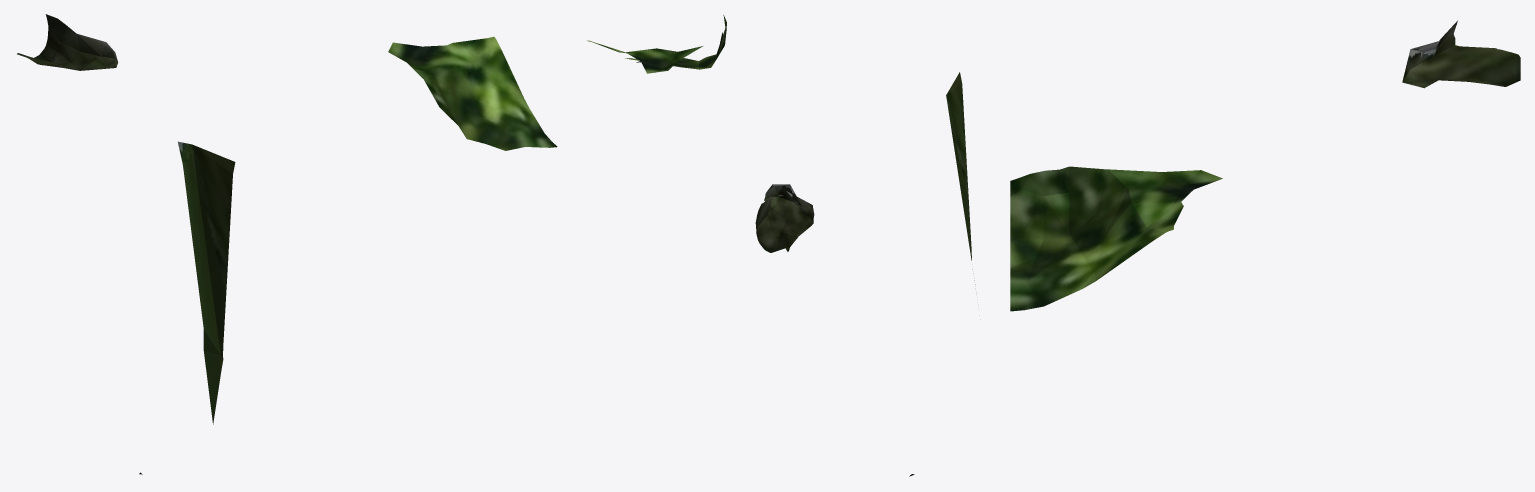
3 views of the same model, side by side, from view 1: azimuth 30°, elevation 25°; view 2: azimuth 150°, elevation 25°; view 3: azimuth 270°, elevation 25° (orthographic). The views are drawn at different scales.
Size of the model in its own units: 0.8374 by 0.8374 by 0.8373.
Materials: 1 (1 with a texture image).
